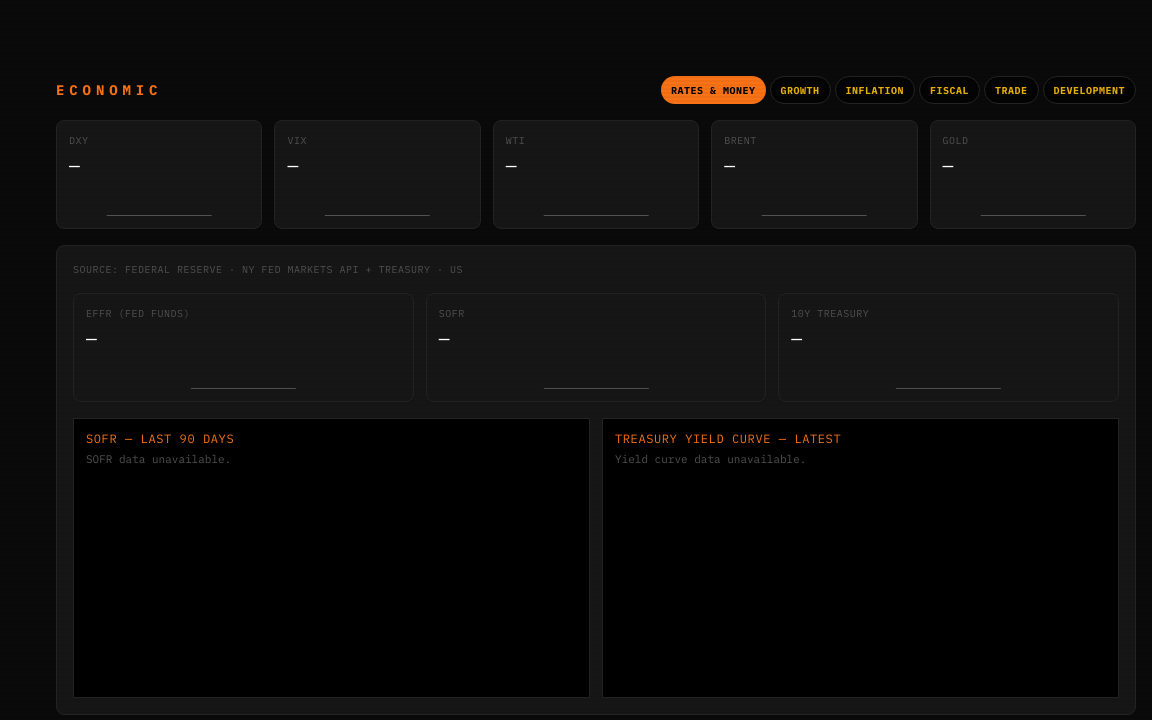
Economic page › switches sub-tabs
Click the button "GROWTH" at (800, 90), box [770, 76, 830, 104]
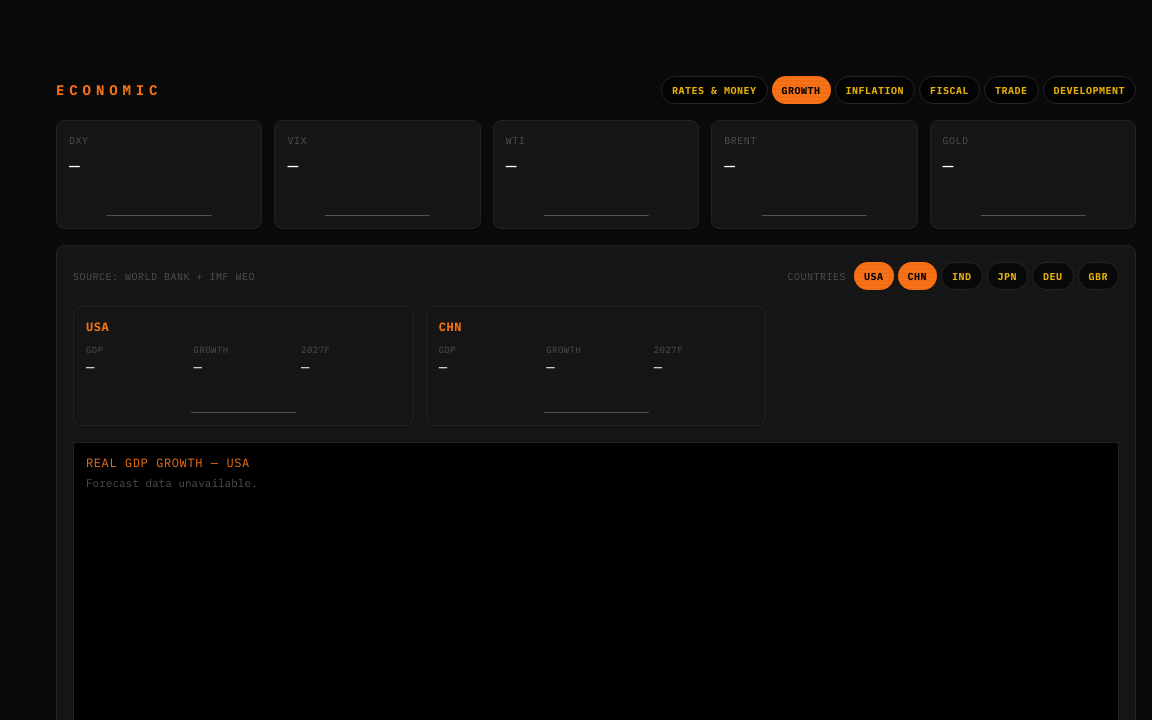
Check: the text "Source: World Bank + IMF WEO" is shown, box [73, 268, 255, 284]
Check: the text "Source: Federal Reserve" is gone
Click the button "INFLATION" at (875, 90), box [834, 76, 915, 104]
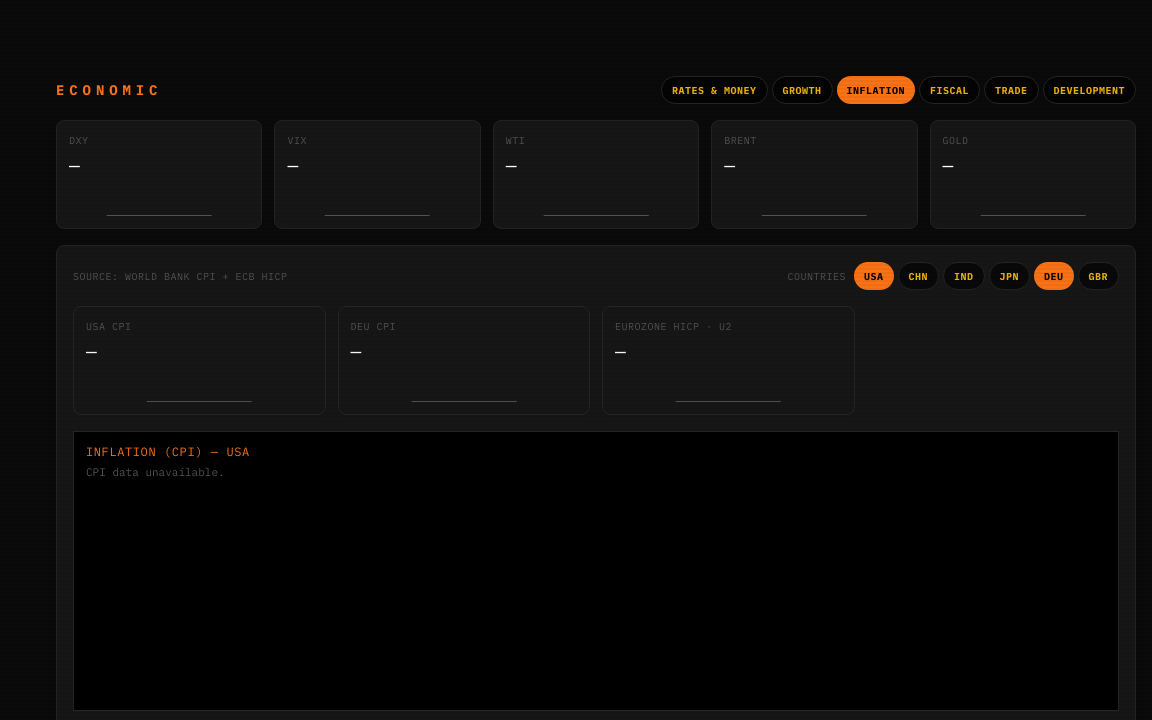
Check: the text "Source: World Bank CPI + ECB HICP" is shown, box [73, 268, 288, 284]
